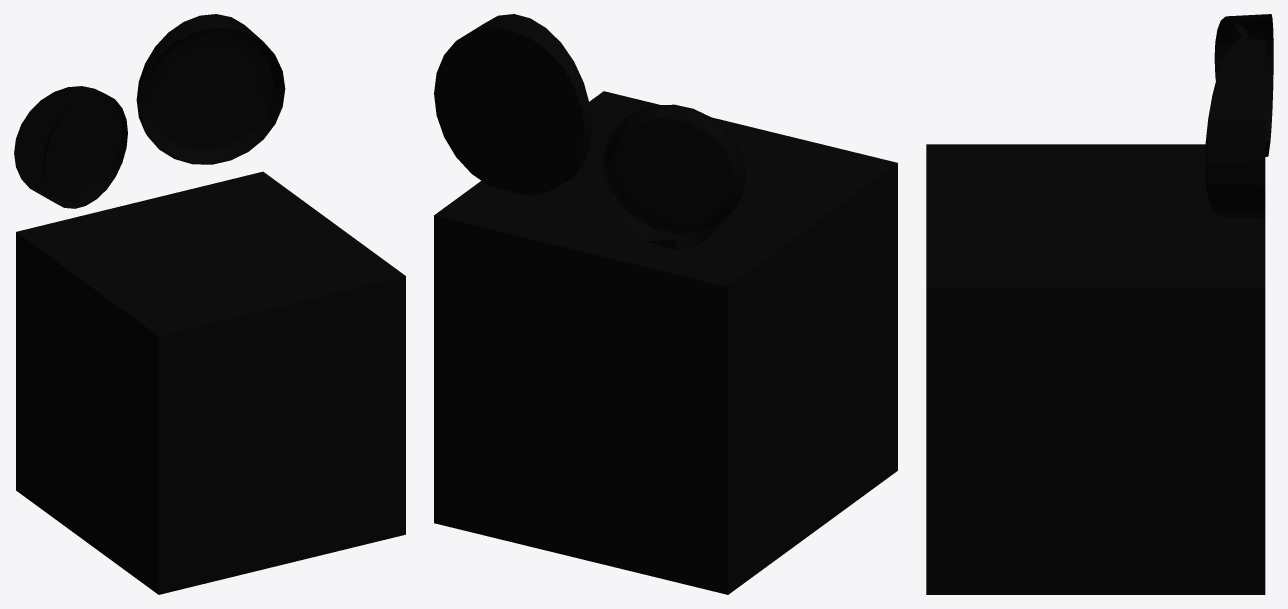
Rendered from tile-portal.glb.
3 views of the same model, side by side, from view 1: azimuth 30°, elevation 25°; view 2: azimuth 150°, elevation 25°; view 3: azimuth 270°, elevation 25° (orthographic). The views are drawn at different scales.
Visible parts, largest first — view 1: tyle-test; view 2: tyle-test; view 3: tyle-test.
Part boxes in pixels (bbox=[...]): tyle-test: bbox=[14, 14, 405, 594]; tyle-test: bbox=[434, 14, 897, 594]; tyle-test: bbox=[926, 14, 1273, 594].
Bounding box in the file's own units: 1 × 1.66 × 1.02.
Materials: 1 (1 with a texture image).
